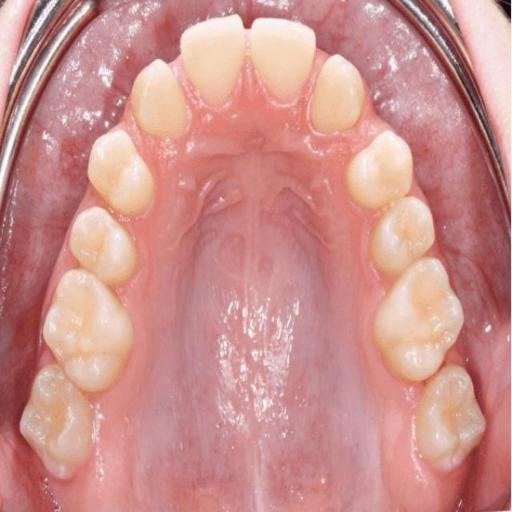spaced: (102, 119, 174, 147), (339, 115, 395, 143), (166, 63, 198, 91), (303, 55, 331, 87)
